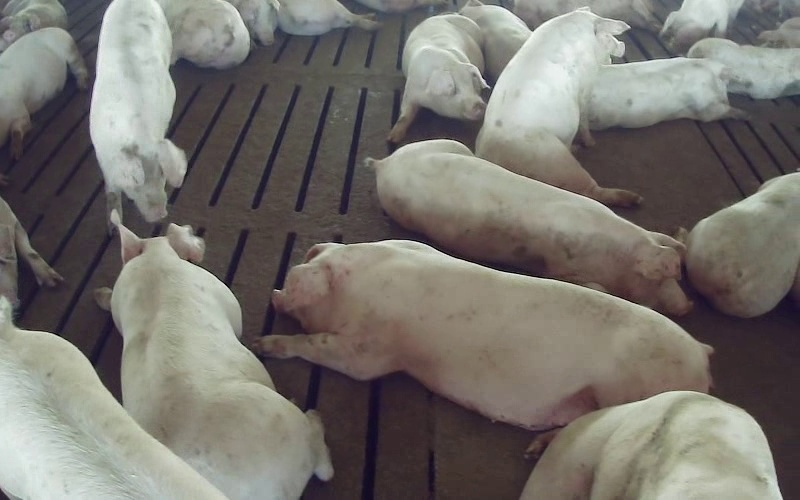pig: (256, 240, 711, 429), (95, 213, 332, 499), (368, 140, 691, 314), (475, 8, 640, 204), (521, 391, 781, 499), (90, 0, 186, 221), (686, 172, 799, 317), (387, 14, 487, 142), (0, 28, 87, 158), (588, 57, 742, 129), (687, 38, 799, 98), (160, 0, 250, 69), (460, 0, 531, 81), (659, 0, 743, 54), (0, 0, 66, 52)
